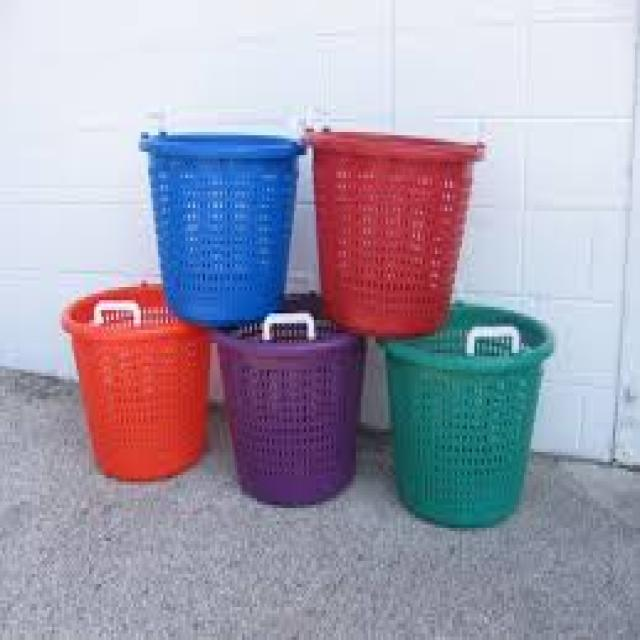basket: (357, 292, 561, 542), (291, 126, 487, 346), (56, 270, 240, 494), (141, 135, 306, 325), (217, 329, 367, 506)
